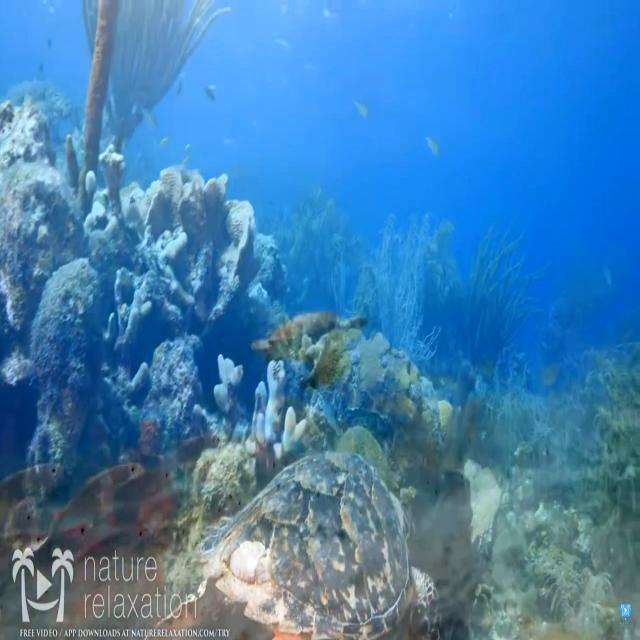Sea turtle: (169, 446, 445, 640)
